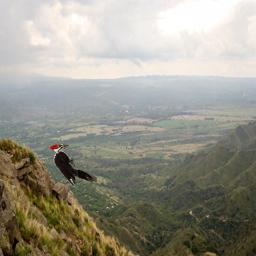Woodpecker: (48, 144, 97, 187)
